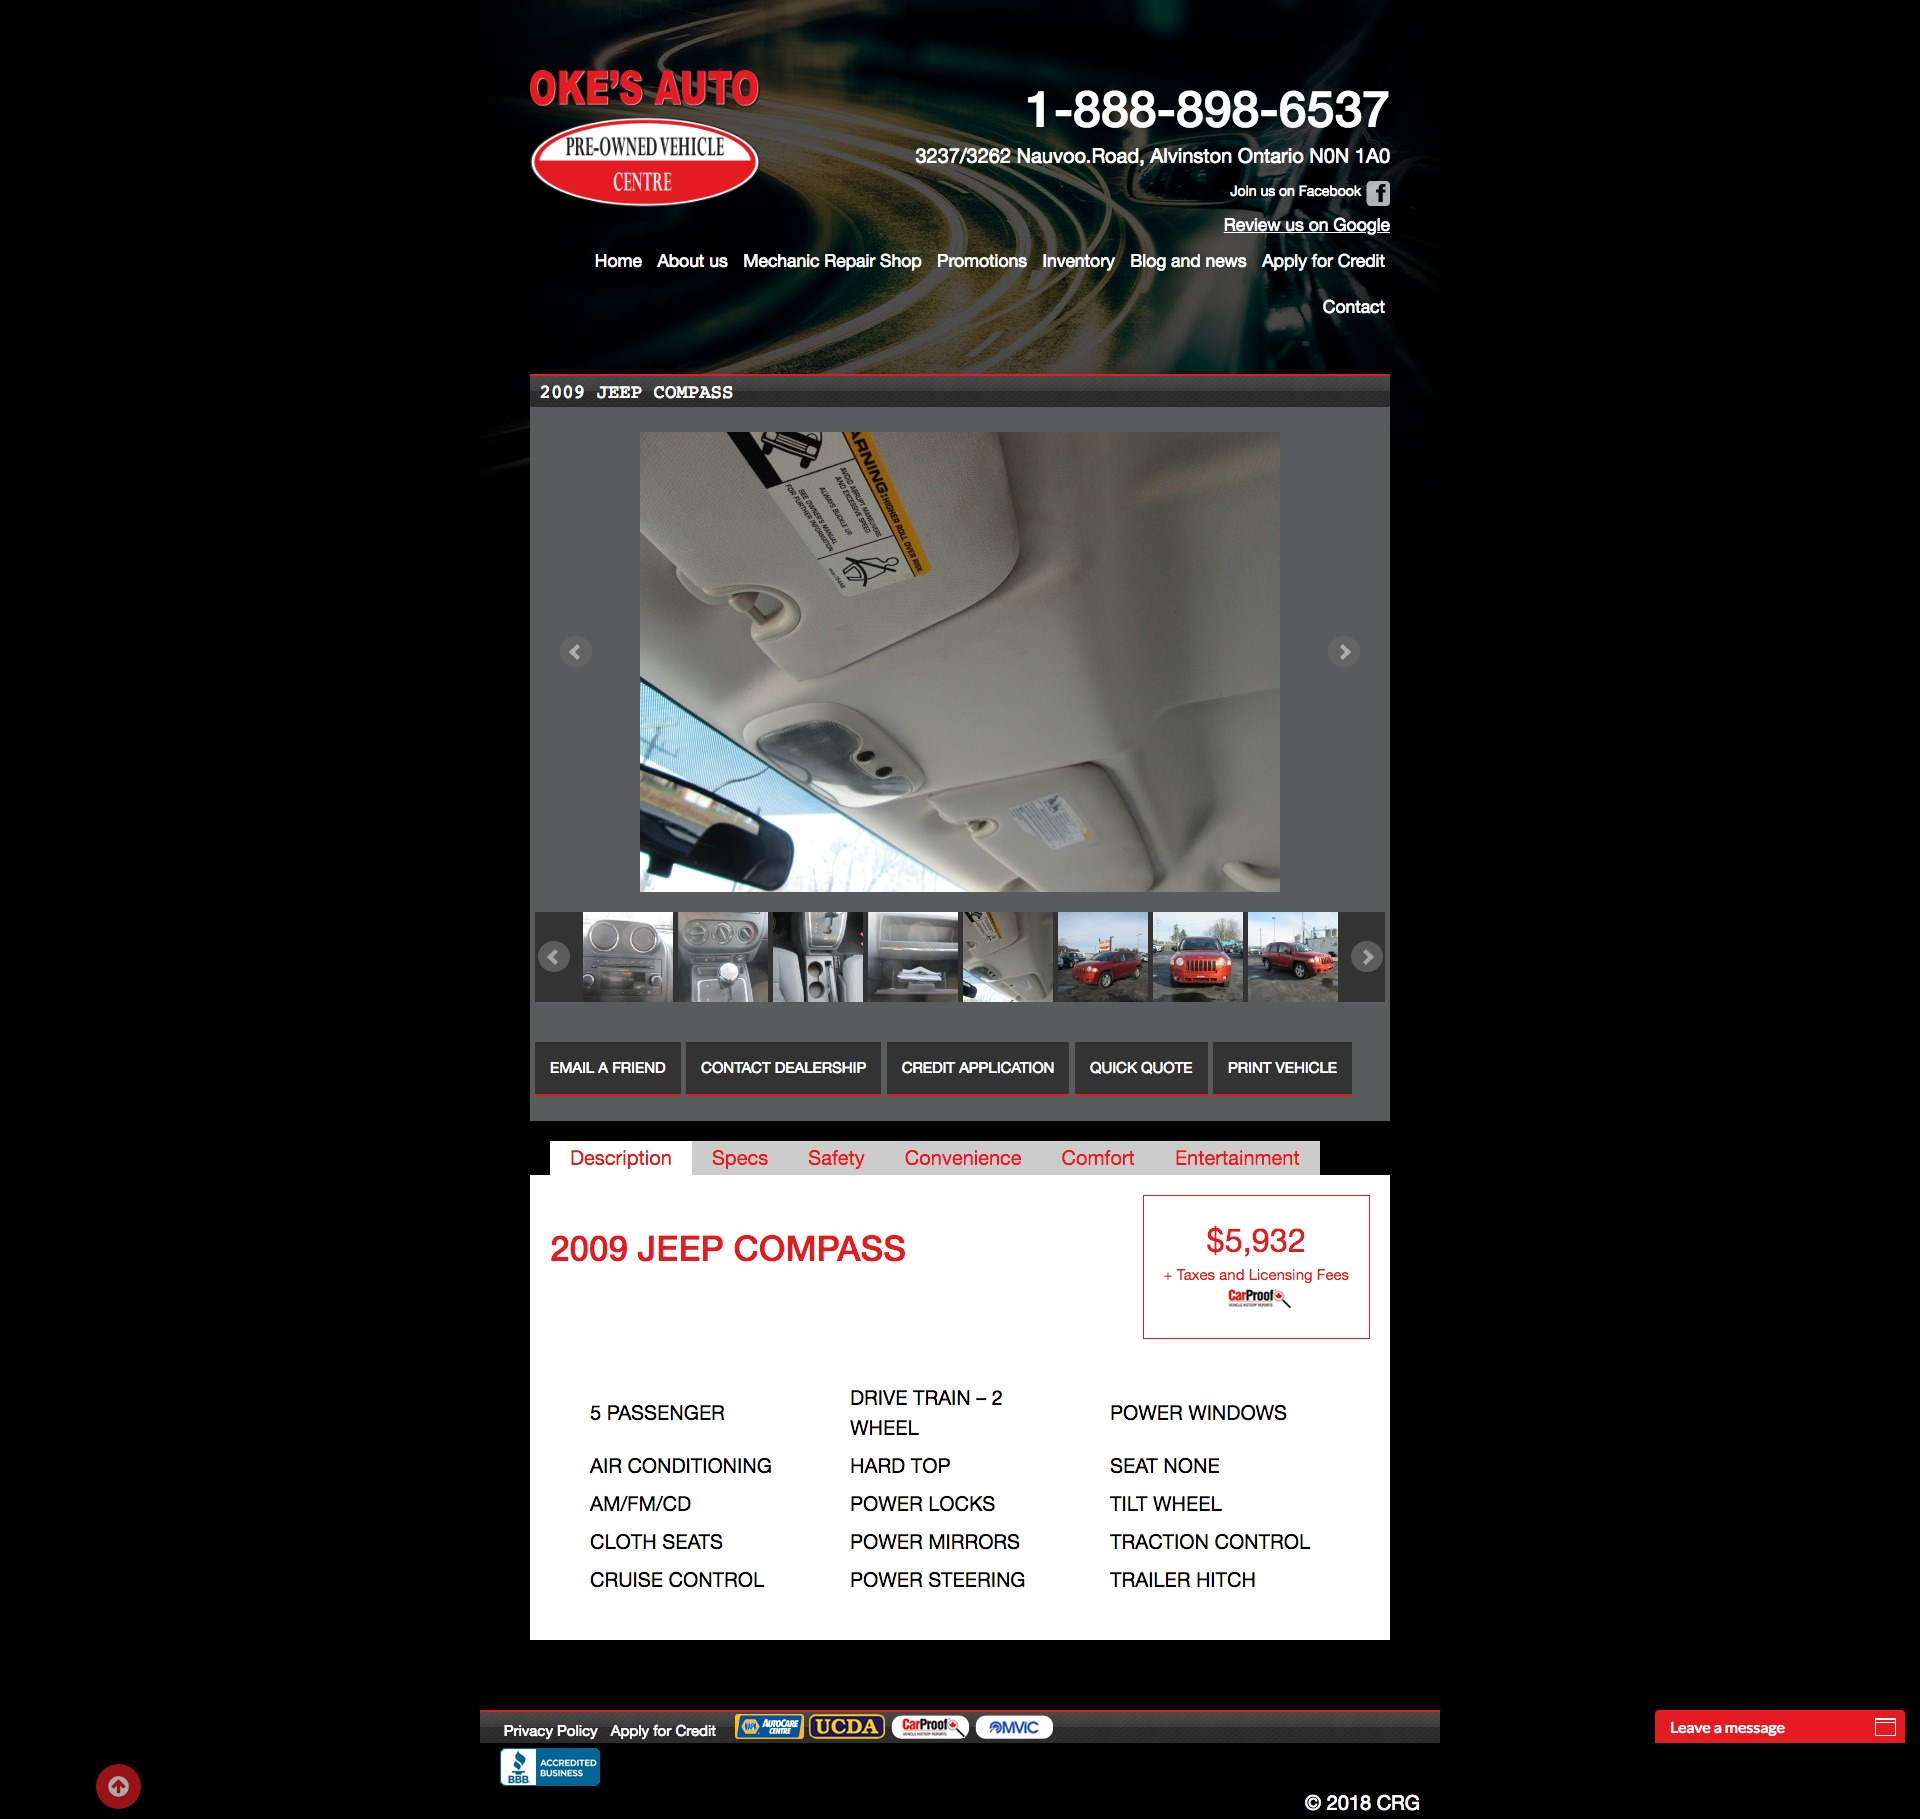car: (1351, 940, 1383, 974)
